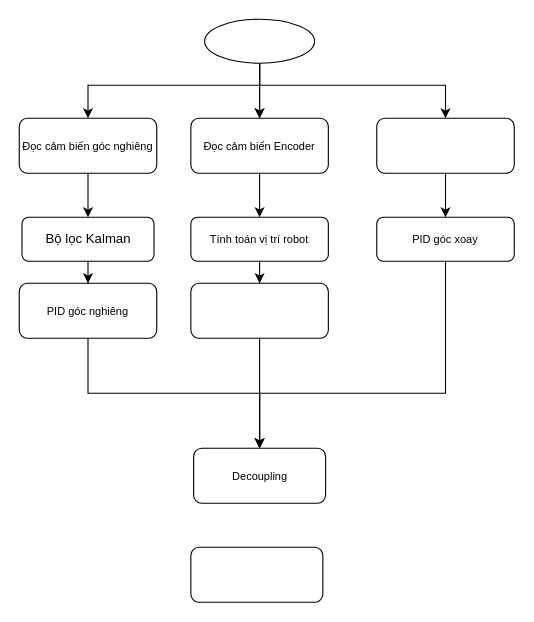
Image size: 534x622. Some labels were removed from this diagram. Here are the shapes that lost their labels. From the top down, the centre of each, then its label:
point 259,40: Bắt đầu
point 445,145: Đọc góc xoay trục Z
point 259,310: PID vị trí
